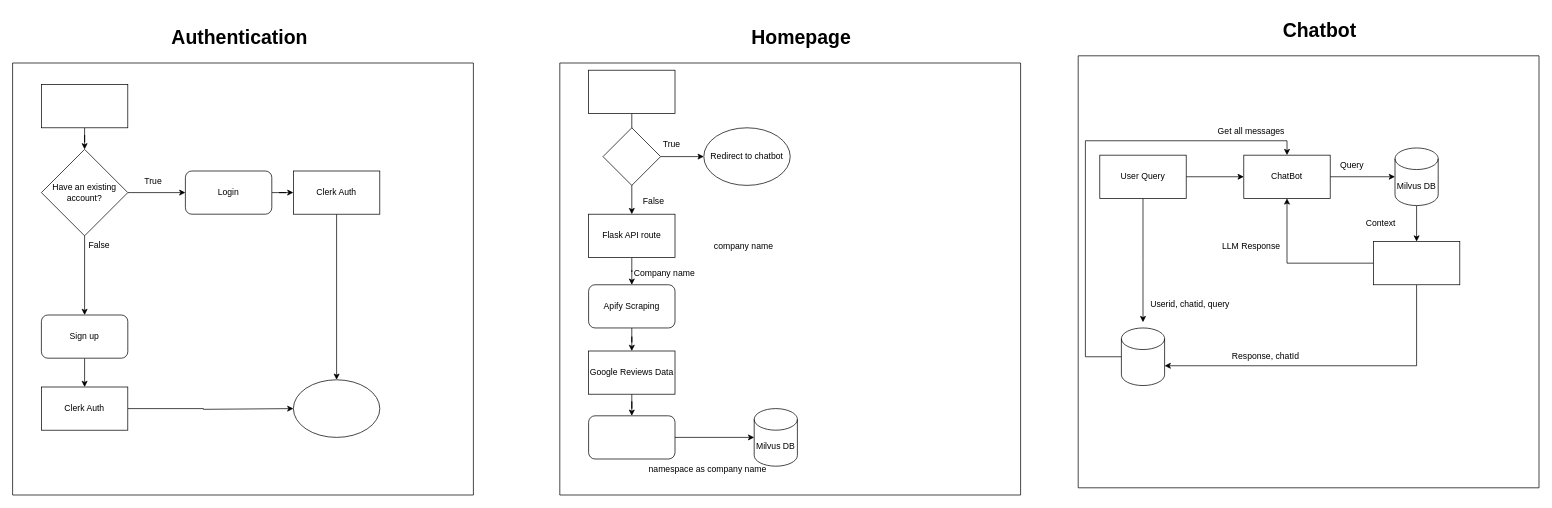
This 1552x508 diagram has some shape labels left out. The centre of each missing label's shape, as x and y in pixels:
"Create Embeddings" belongs at point (631, 437).
"Data available?" belongs at point (631, 156).
"Home Page" belongs at point (84, 106).
"Input company name" belongs at point (631, 91).
"NeonDB" belongs at point (1143, 356).
"OpenAI Azure" belongs at point (1416, 263).
"Redirect to homepage" belongs at point (336, 408).
